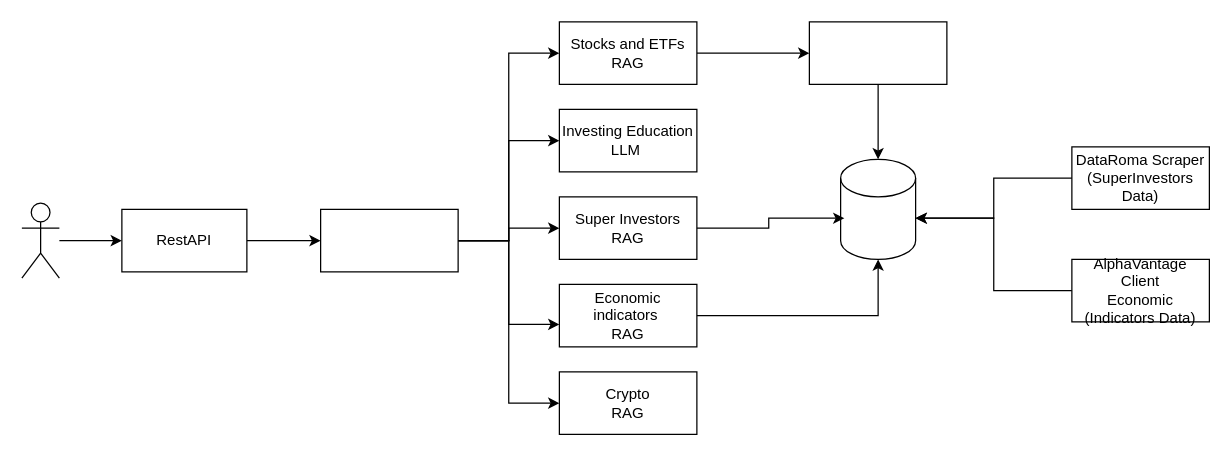
This 1231x456 diagram has some shape labels left out. Here are the shapes that lost their labels. From the top down, the box of each, then its label:
(808, 21, 947, 84): Stock Analysis Scraper
(839, 158, 916, 259): DB
(21, 202, 59, 278): Client
(319, 208, 458, 272): Topic Router
